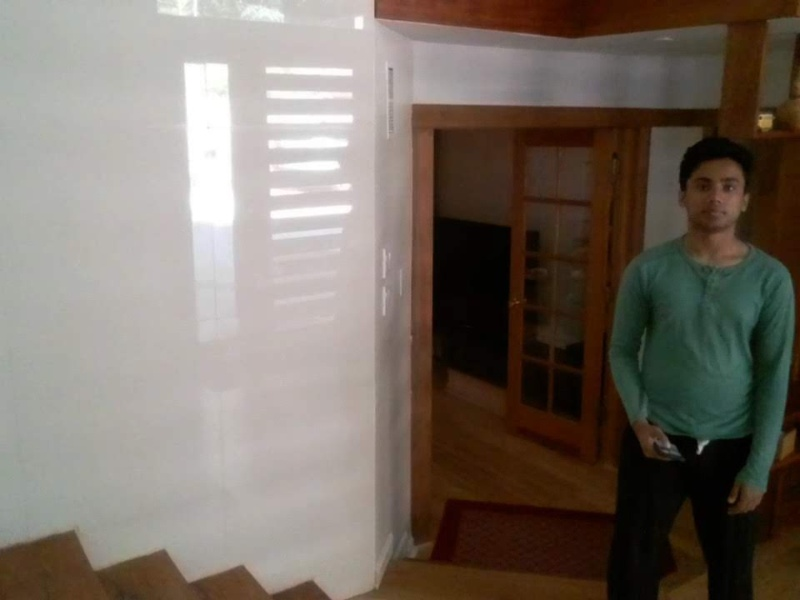nihad: (609, 131, 792, 600)
